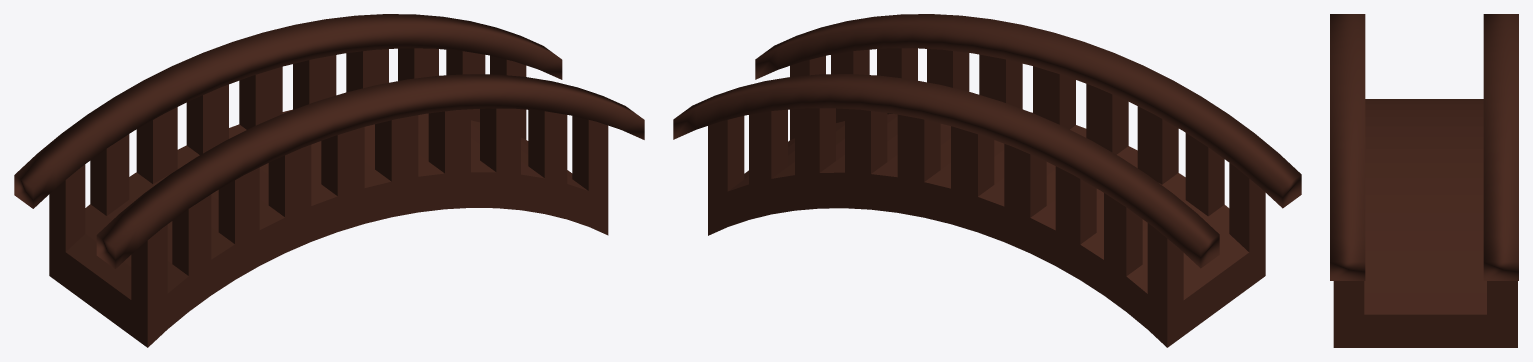
Rendered from хрустальный мост.fbx.
3 renders of one model, left to right at view 1: azimuth 30°, elevation 25°; view 2: azimuth 150°, elevation 25°; view 3: azimuth 270°, elevation 25°, orthographic. The views are drawn at different scales.
Parts seen in each view (by area): view 1: Cube, Cube.001; view 2: Cube, Cube.001; view 3: Cube, Cube.001.
Part boxes in pixels (x1,y1,x2,y2): Cube: (49,48,608,347); Cube.001: (14,14,644,268); Cube: (708,48,1265,347); Cube.001: (673,14,1301,268); Cube: (1333,99,1517,347); Cube.001: (1330,14,1518,280).
Bounding box in the file's own units: 620 × 213 × 205.
